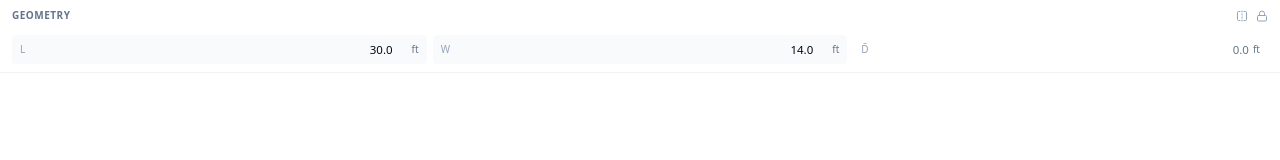
Scenario: GeometrySection › shows the refusal and puts the field back
Replace the text in the number field showing "30.0" with "99999" at x=219, y=50, box [30, 35, 408, 64]
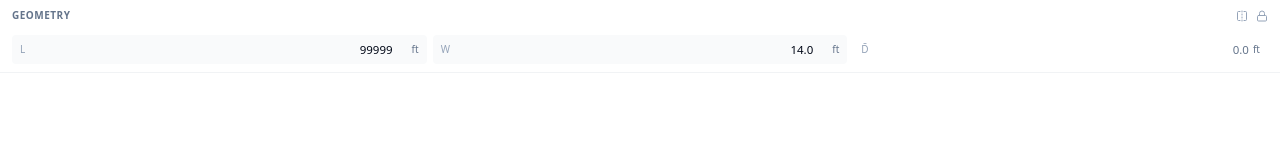
Leave the number field showing "30.0", box [30, 35, 408, 64]
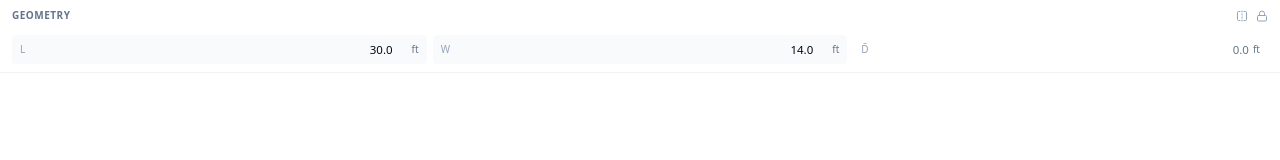
Check: the number field showing "30.0" holds "30.0", box [30, 35, 408, 64]
